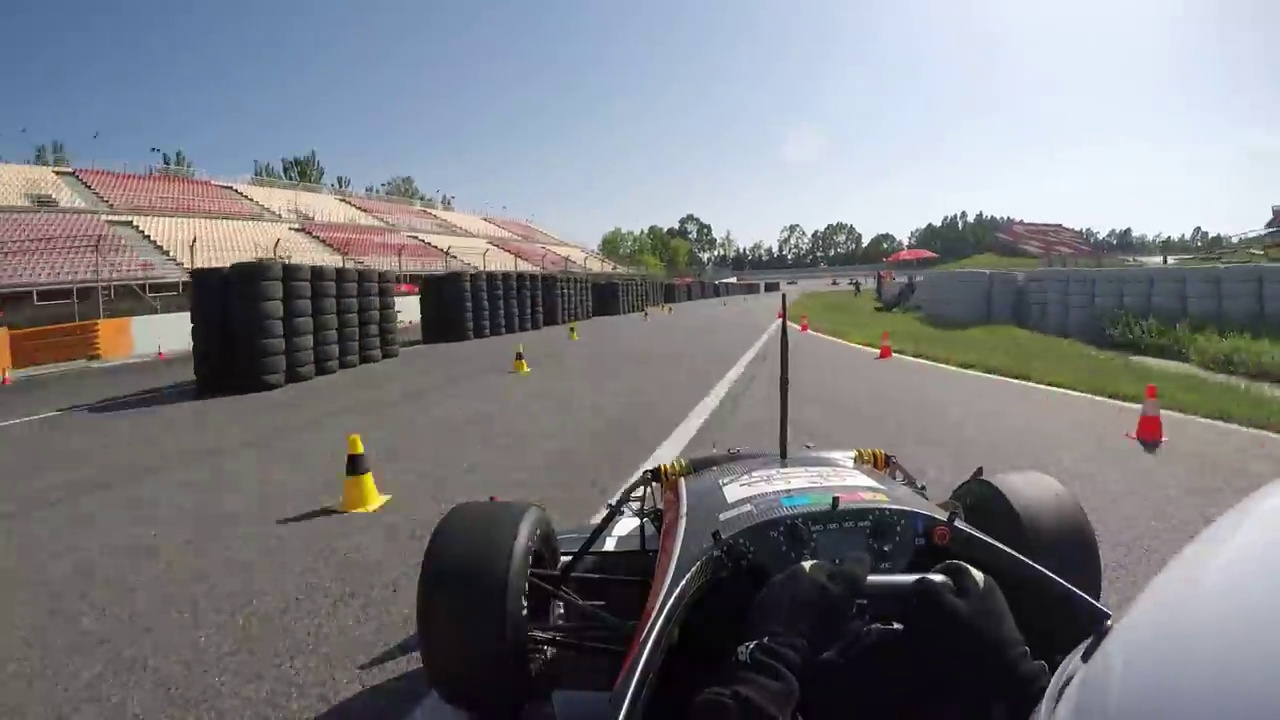Cone: (334, 429, 388, 514), (1132, 381, 1172, 448)
